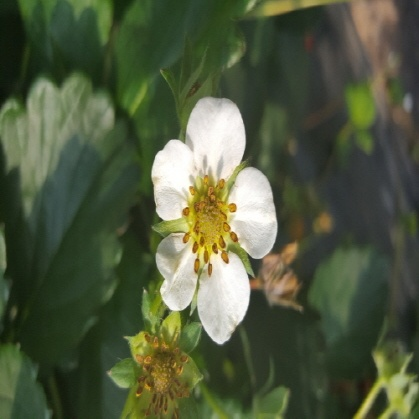Blossom_BT: (131, 0, 192, 380), (178, 140, 244, 271)
